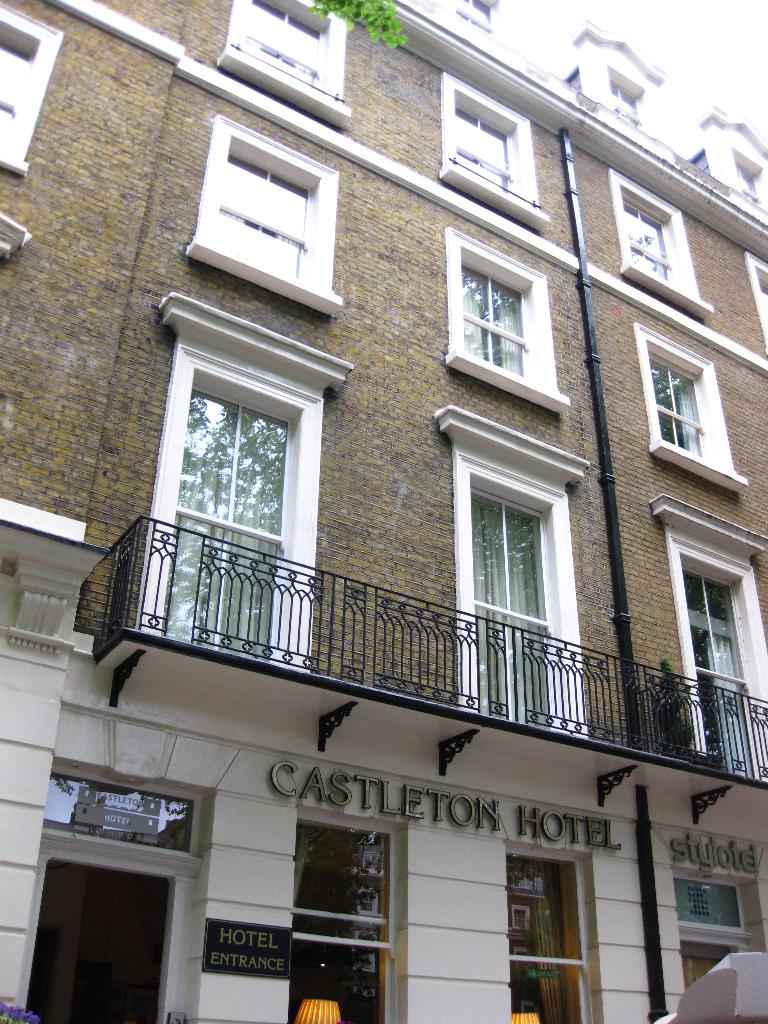Door: (27, 863, 170, 1021), (293, 934, 382, 1023), (503, 960, 571, 1023)
